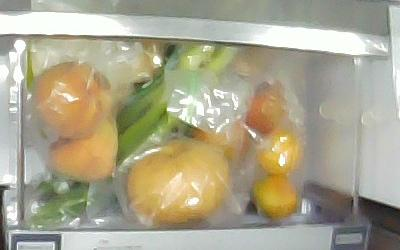peach_vinyl: (37, 62, 111, 137), (48, 119, 118, 180)
pear_vinyl: (125, 138, 227, 223)
tangerine_vinyl: (250, 173, 296, 217), (259, 133, 304, 176)
tomato_vinyl: (192, 120, 250, 163), (240, 83, 282, 131)
